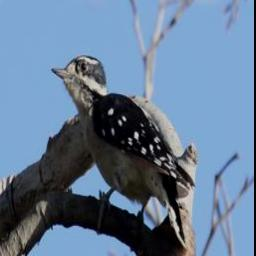Woodpecker: (49, 53, 198, 247)
